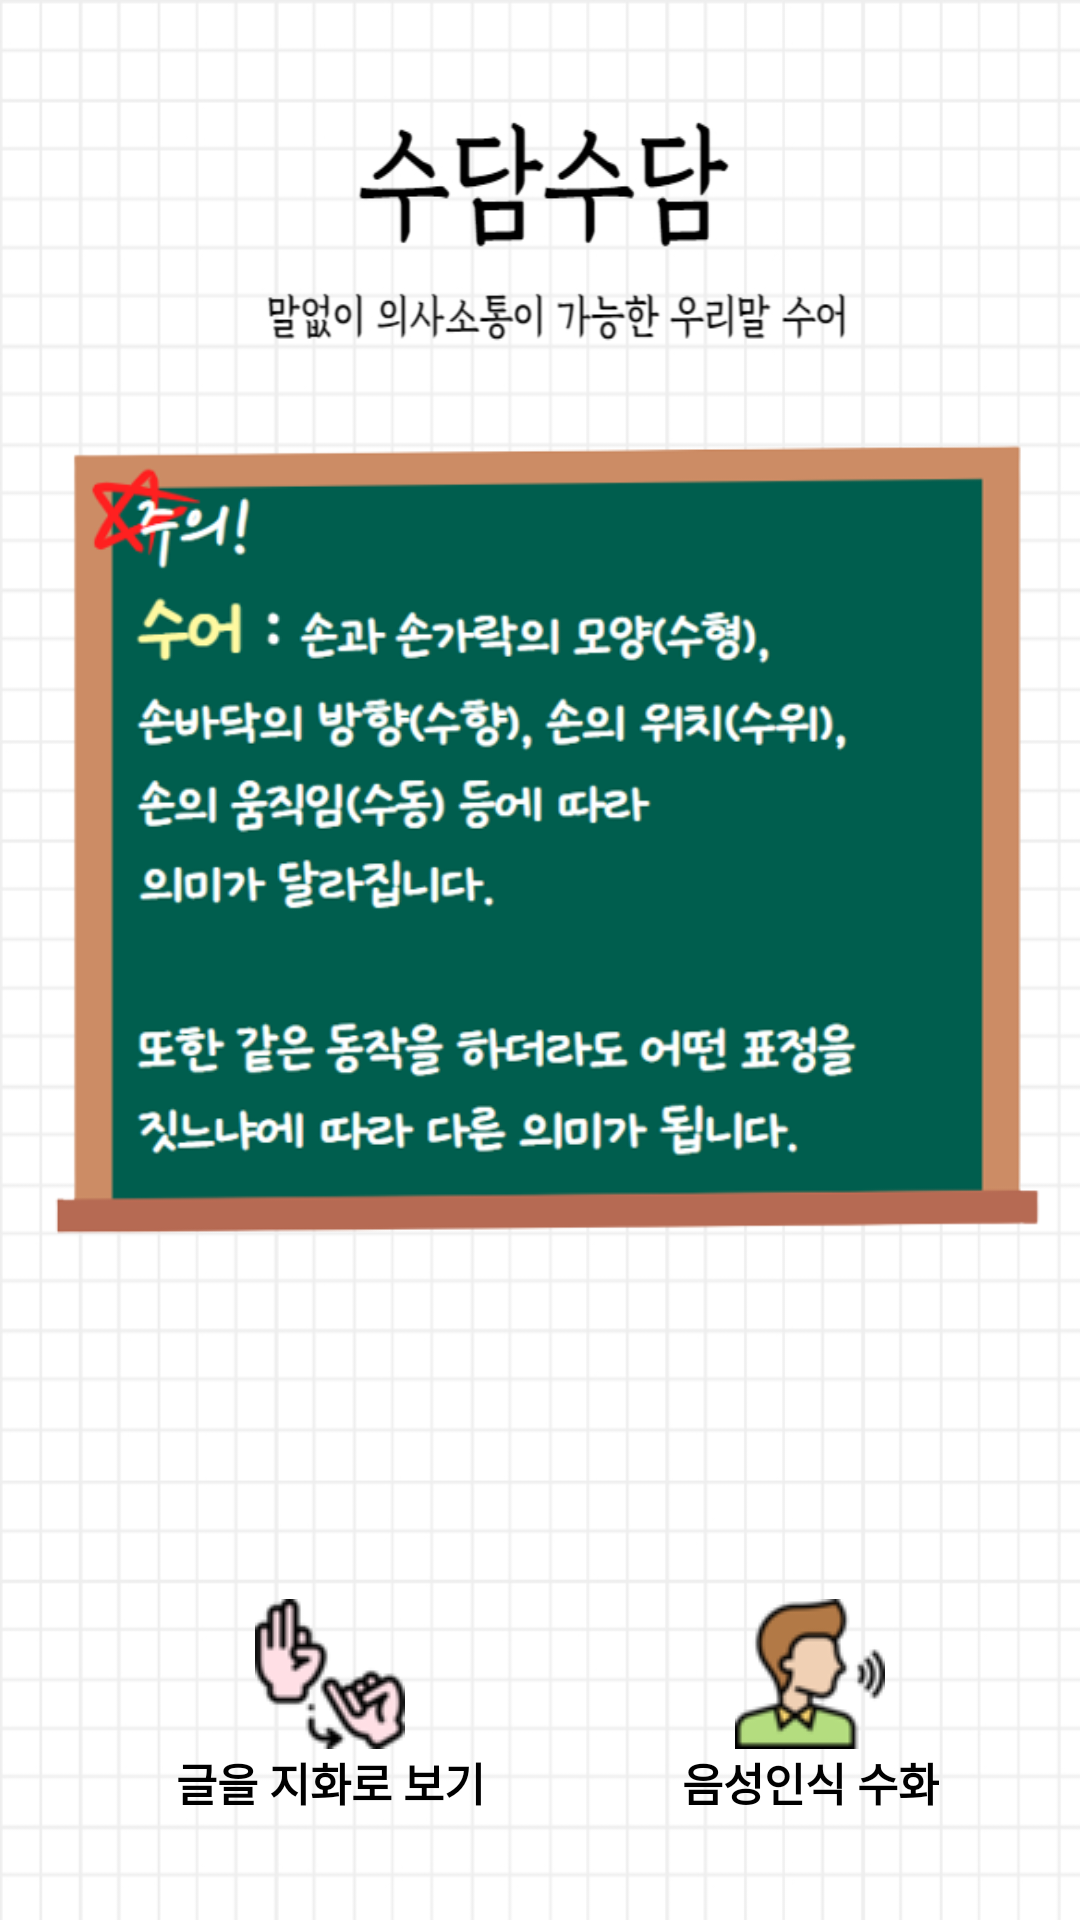

Icons on this 1080w x 1920h Android screen, each with the point to tap as [x,y]:
handicon: [330,1674]
